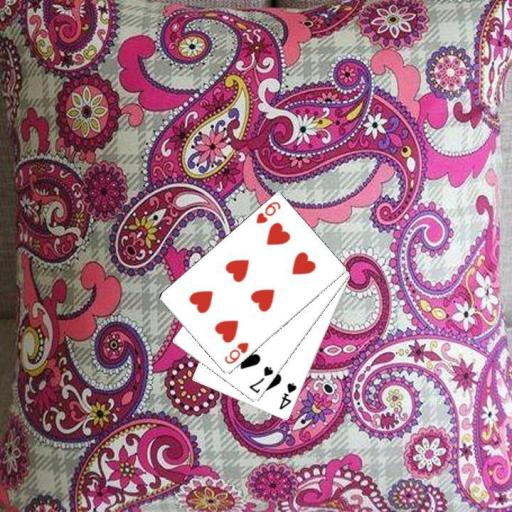4S: (276, 380, 298, 411)
6H: (221, 339, 250, 366), (253, 199, 282, 226)
7S: (246, 364, 275, 396)
